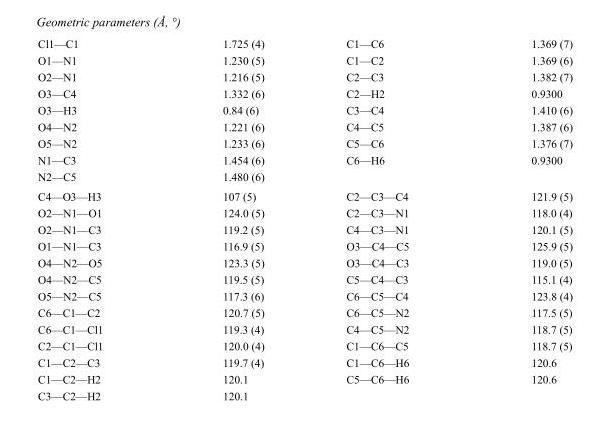table: (37, 36, 572, 401)
table column: (304, 36, 469, 401), (162, 36, 304, 401), (37, 36, 162, 401), (469, 36, 572, 401)
table row: (37, 185, 572, 204), (37, 167, 572, 185), (37, 51, 572, 68), (37, 84, 572, 101), (37, 117, 572, 134), (37, 134, 572, 151), (37, 220, 572, 237), (37, 237, 572, 254), (37, 270, 572, 287), (37, 303, 572, 320), (37, 320, 572, 337), (37, 353, 572, 370), (37, 370, 572, 387), (37, 68, 572, 84), (37, 101, 572, 117), (37, 151, 572, 167), (37, 204, 572, 220), (37, 254, 572, 270), (37, 287, 572, 303), (37, 337, 572, 353), (37, 36, 572, 51), (37, 387, 572, 401)
